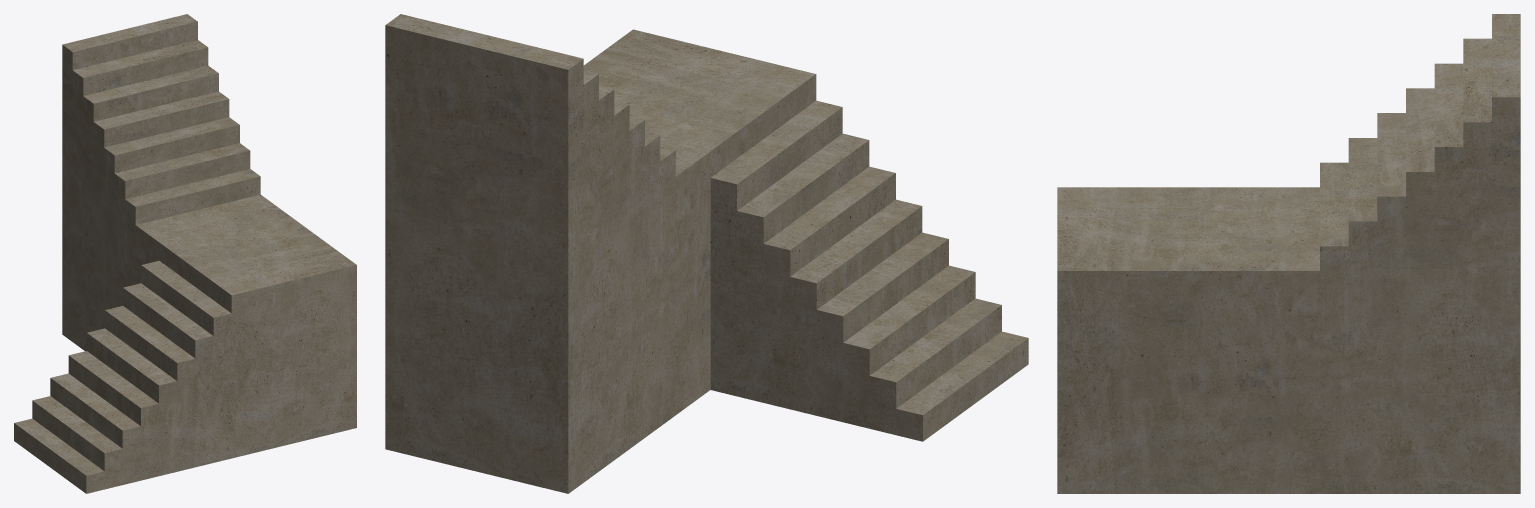
The model's file is concrete_stairs_2.glb.
3 renders of one model, left to right at view 1: azimuth 30°, elevation 25°; view 2: azimuth 150°, elevation 25°; view 3: azimuth 270°, elevation 25°, orthographic. The views are drawn at different scales.
Visible parts, largest first — view 1: Mesh1_Concrete012_0; view 2: Mesh1_Concrete012_0; view 3: Mesh1_Concrete012_0.
Part boxes in pixels (<box>): Mesh1_Concrete012_0: <box>14,14,356,493</box>; Mesh1_Concrete012_0: <box>385,14,1028,493</box>; Mesh1_Concrete012_0: <box>1057,14,1520,493</box>.
Bounding box in the file's own units: 121 × 124 × 131.
1 material, 1 textured.
